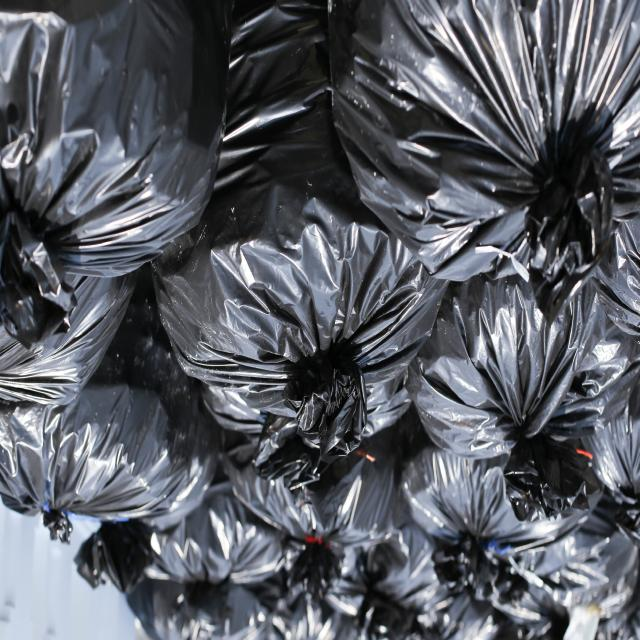plastik: (153, 5, 447, 461), (329, 0, 640, 319), (0, 0, 230, 347), (0, 275, 219, 541), (407, 276, 640, 519), (440, 378, 640, 640), (75, 483, 287, 640), (224, 431, 403, 616), (402, 447, 588, 604), (361, 519, 499, 640)
